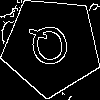Q: (26, 21, 74, 77)
